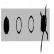correct: (3, 13, 9, 36)
not correct: (39, 4, 48, 53)
